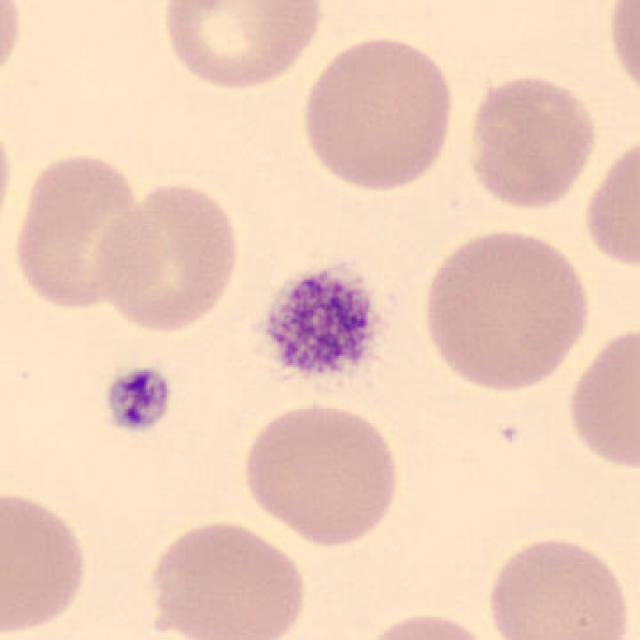Platelets: (254, 261, 386, 393), (100, 363, 176, 437)
RBC: (414, 224, 596, 397), (295, 32, 459, 195), (7, 146, 164, 314), (237, 397, 406, 548), (92, 176, 244, 337), (142, 515, 311, 640), (460, 68, 601, 212), (480, 530, 634, 640), (155, 0, 329, 93), (0, 483, 92, 640), (560, 321, 640, 474), (580, 129, 638, 273), (352, 608, 500, 640), (604, 0, 640, 106), (0, 108, 18, 244), (0, 0, 25, 97)
